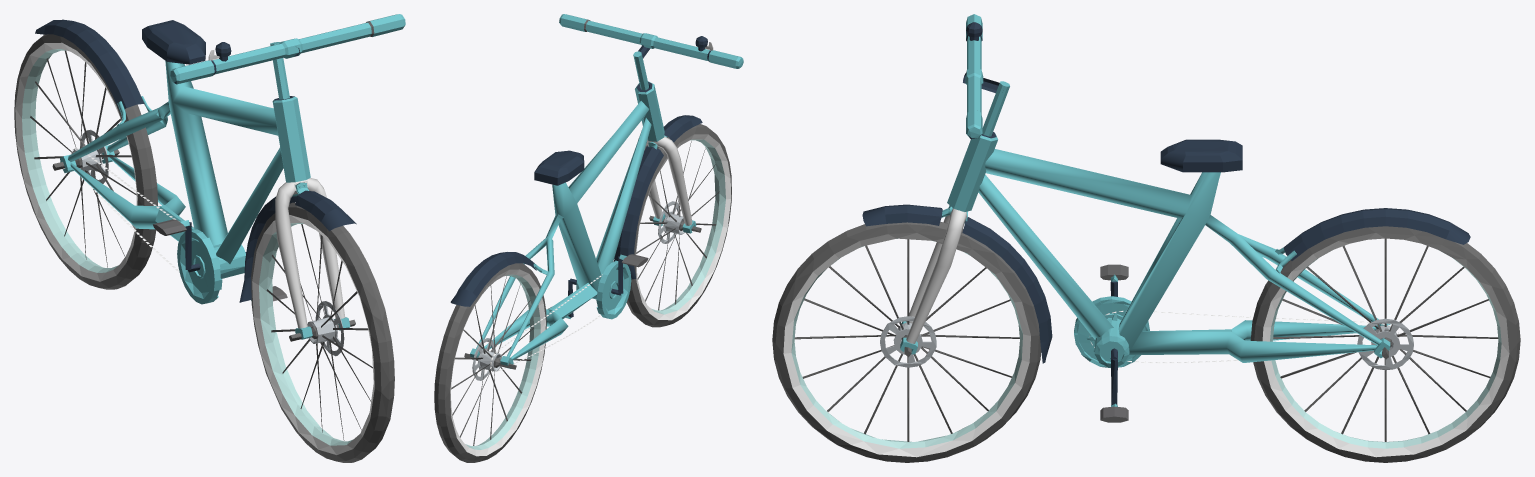
The model's file is bicycle.glb.
3 views of the same model, side by side, from view 1: azimuth 30°, elevation 25°; view 2: azimuth 150°, elevation 25°; view 3: azimuth 270°, elevation 25° (orthographic). The views are drawn at different scales.
Visible parts, largest first — view 1: frame, wheel_front, wheel_rear, crank, pedal_R; view 2: frame, wheel_rear, wheel_front, crank; view 3: frame, wheel_front, wheel_rear, crank.
Boxes of the visible parts, x1,y1,x2,y2 form: frame: (68, 14, 405, 328); wheel_front: (239, 190, 394, 462); wheel_rear: (14, 19, 157, 289); crank: (177, 222, 246, 304); pedal_R: (153, 219, 189, 235); frame: (476, 14, 743, 360); wheel_rear: (434, 252, 557, 462); wheel_front: (613, 115, 731, 327); crank: (568, 256, 631, 319); frame: (906, 14, 1381, 363); wheel_front: (772, 204, 1052, 462); wheel_rear: (1239, 208, 1520, 462); crank: (1074, 281, 1149, 405).
Bounding box in the file's own units: 0.6311 × 1.06 × 1.76.
